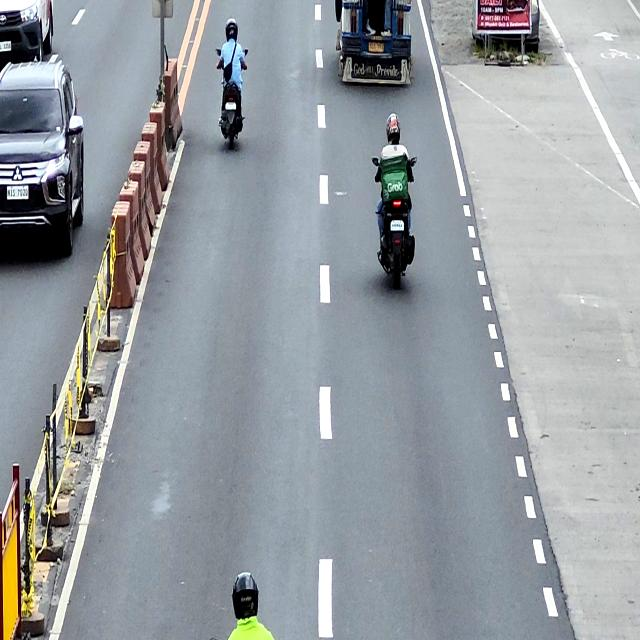Car: (0, 61, 85, 255), (0, 0, 55, 62)
Jeep: (335, 0, 413, 87)
License-Plate: (6, 185, 28, 200), (368, 42, 384, 53), (390, 220, 404, 232), (0, 42, 12, 52), (224, 102, 237, 110)
Motorcycle: (372, 156, 418, 287), (216, 47, 248, 147)
